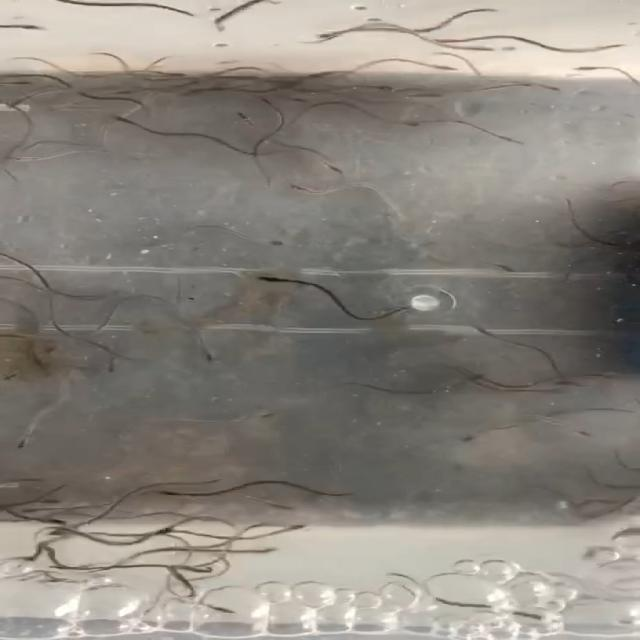active_glass_eel: (134, 597, 174, 618), (261, 522, 311, 538), (254, 272, 302, 288), (463, 319, 498, 338), (203, 601, 242, 618), (42, 526, 94, 538), (26, 512, 65, 527), (142, 524, 178, 540), (287, 180, 320, 197), (194, 343, 220, 364), (246, 234, 286, 247), (488, 260, 520, 276), (11, 20, 45, 35), (568, 425, 602, 440), (261, 497, 295, 512), (426, 33, 465, 46), (106, 114, 142, 128), (12, 94, 40, 112), (229, 110, 256, 128), (460, 372, 490, 388), (456, 427, 486, 443), (13, 431, 33, 454), (409, 90, 450, 101), (250, 95, 276, 112), (478, 44, 522, 54), (157, 487, 197, 498), (165, 562, 187, 582), (28, 496, 64, 508), (424, 62, 458, 74), (250, 409, 281, 422), (573, 62, 606, 74), (534, 83, 566, 95), (319, 28, 349, 40), (3, 367, 27, 382), (7, 79, 38, 90), (393, 115, 419, 128), (8, 153, 43, 162), (361, 82, 394, 91), (158, 68, 186, 78), (108, 354, 120, 376)
